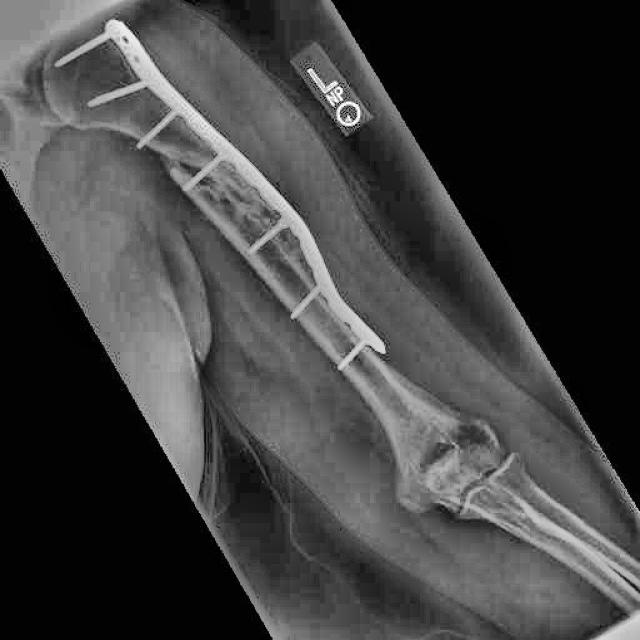humerus: (130, 120, 260, 261)
